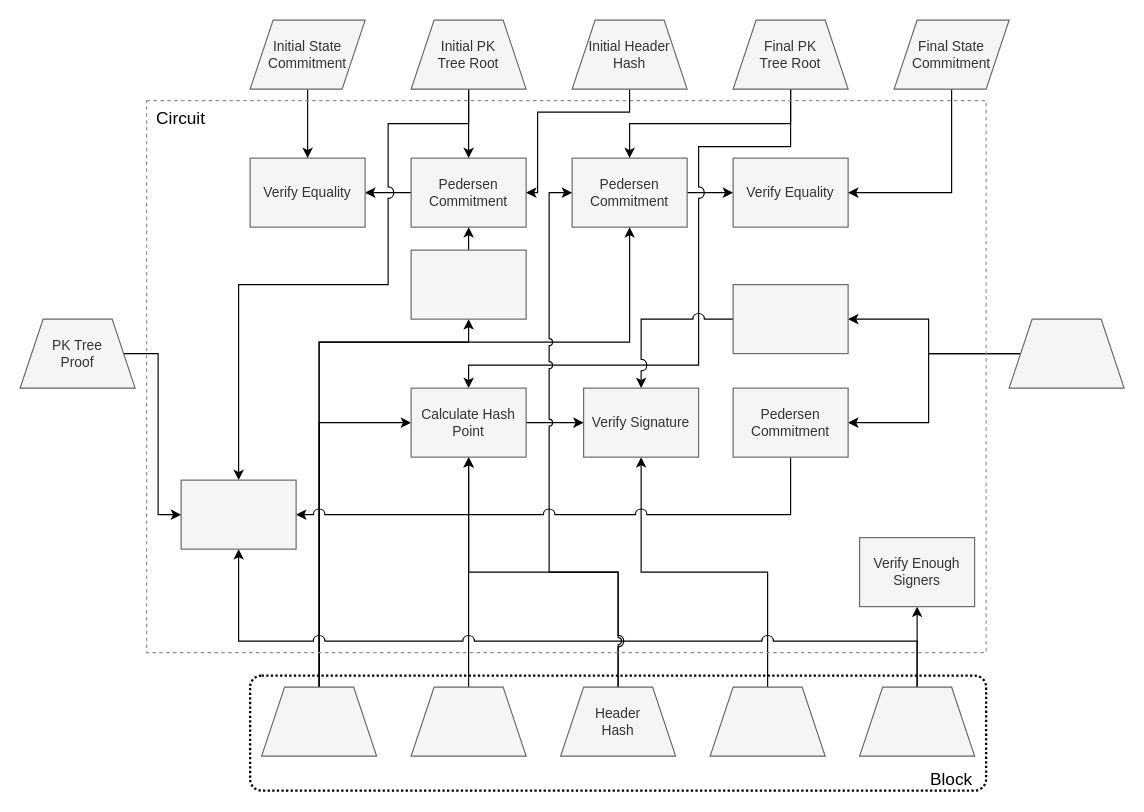
Image size: 1144x812. Some labels were removed from this diagram. Each missing label, with the centre of its shape:
"Aggregate Public Key Chunks" goes at [1066,353].
"Block Number" goes at [318,721].
"Calculate Aggregate Public Key" goes at [790,318].
"Decrement" goes at [468,284].
"Round Number" goes at [468,721].
"Signature" goes at [767,721].
"Signer Bitmap" goes at [916,721].
"Verify PK Tree Proof" goes at [238,514].
